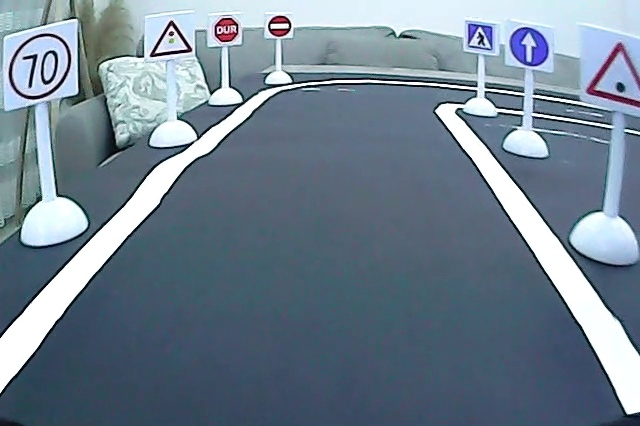do not enter: (265, 11, 293, 37)
green light: (582, 30, 640, 112)
pedestrian crossing: (464, 18, 496, 53)
red light: (148, 16, 194, 59)
speed limit 70: (6, 25, 73, 103)
stop sign: (210, 12, 243, 46)
